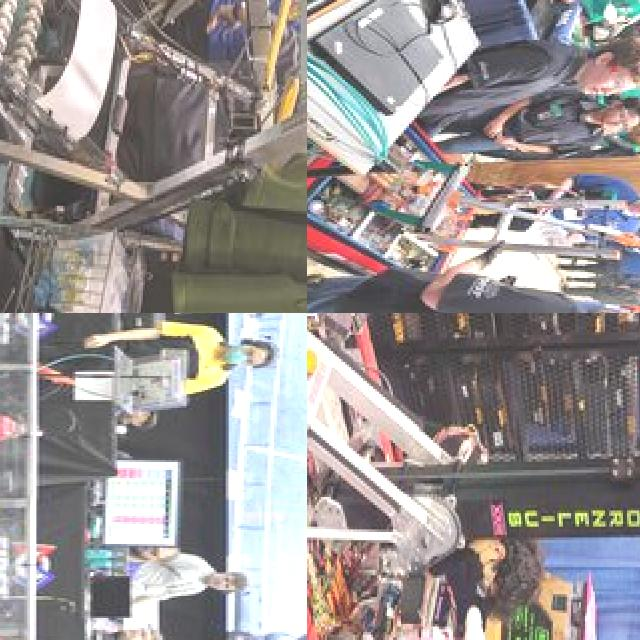FRC-Robots: (0, 0, 307, 249), (307, 313, 528, 640), (307, 109, 619, 301), (0, 501, 295, 640)
